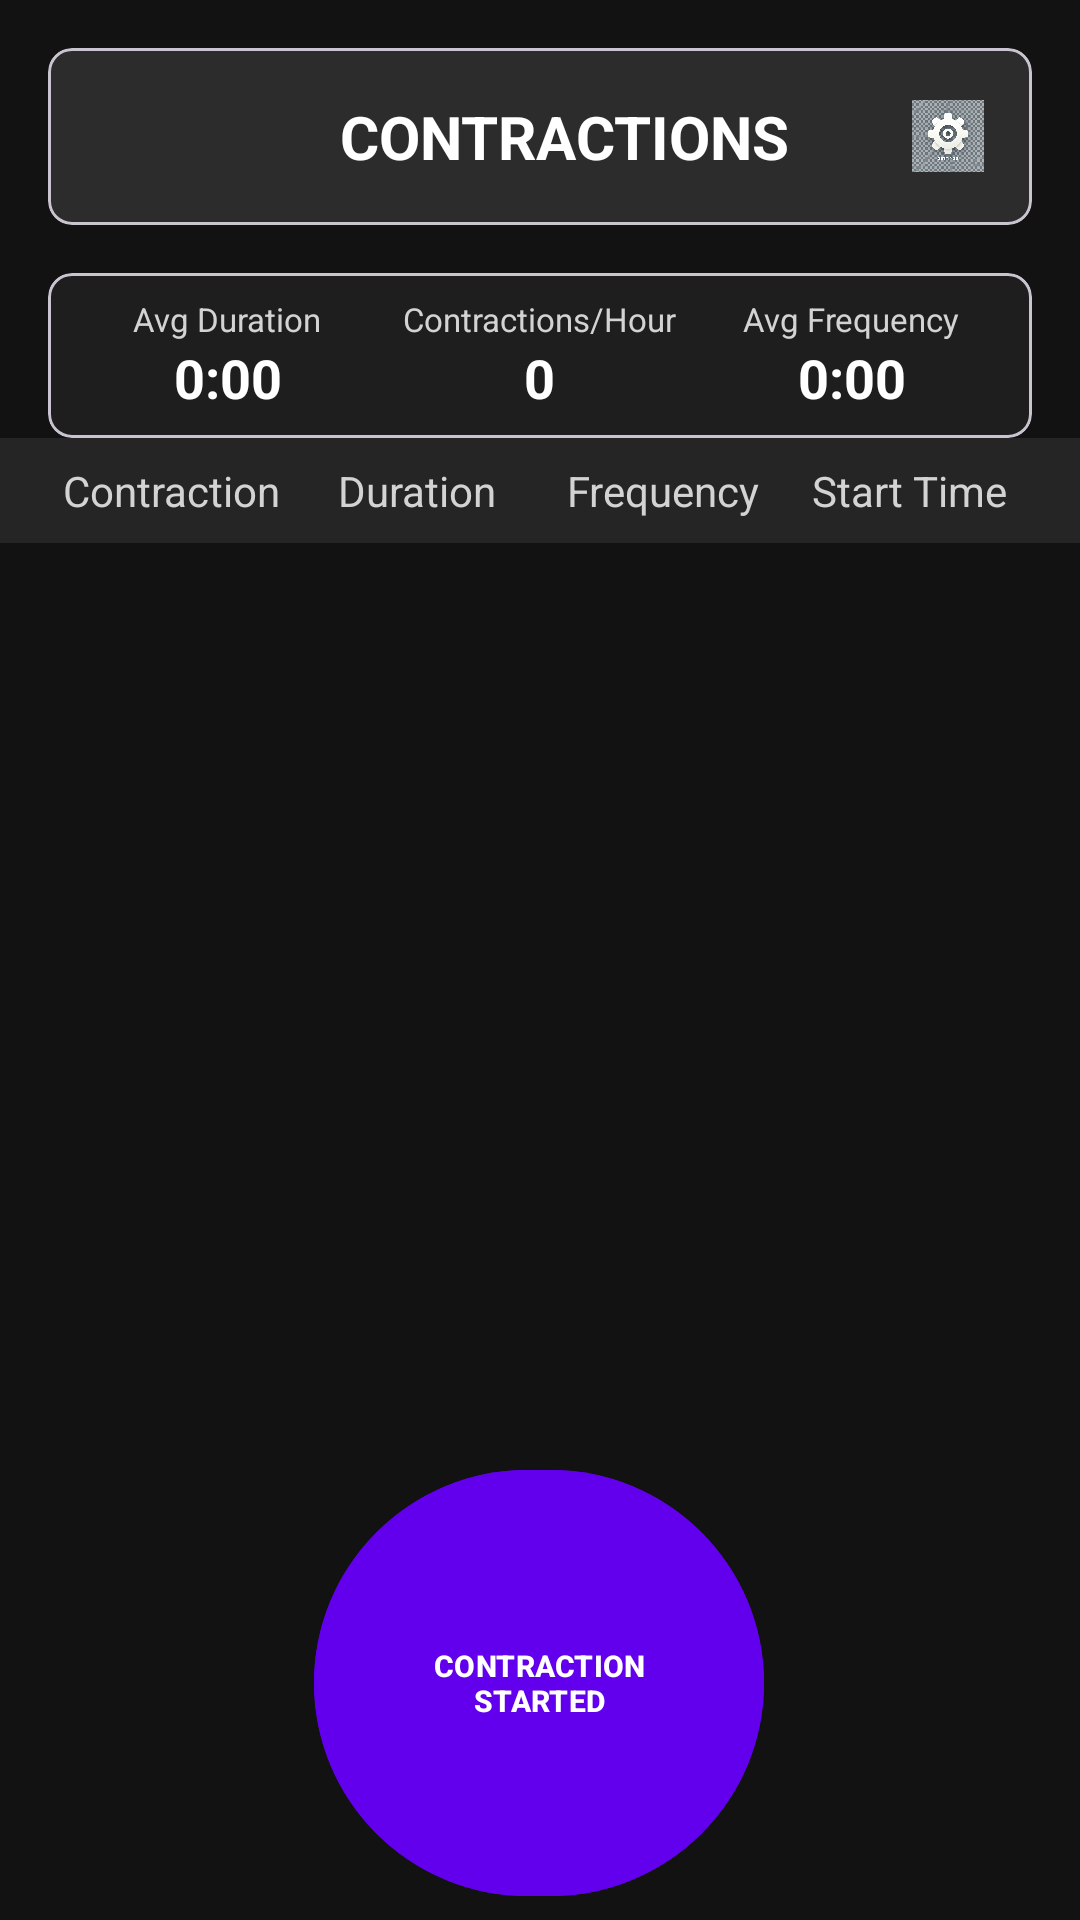

Locate icon controls on the screen. Image size 1080px x 1920px, boxes as (x1, y1, x2, y2).
Settings: (912, 100, 984, 172)
